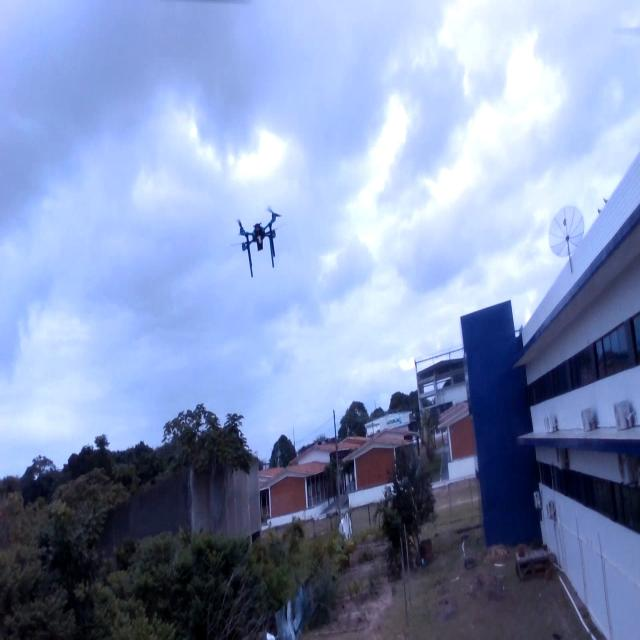-uav-: (230, 202, 288, 278)
